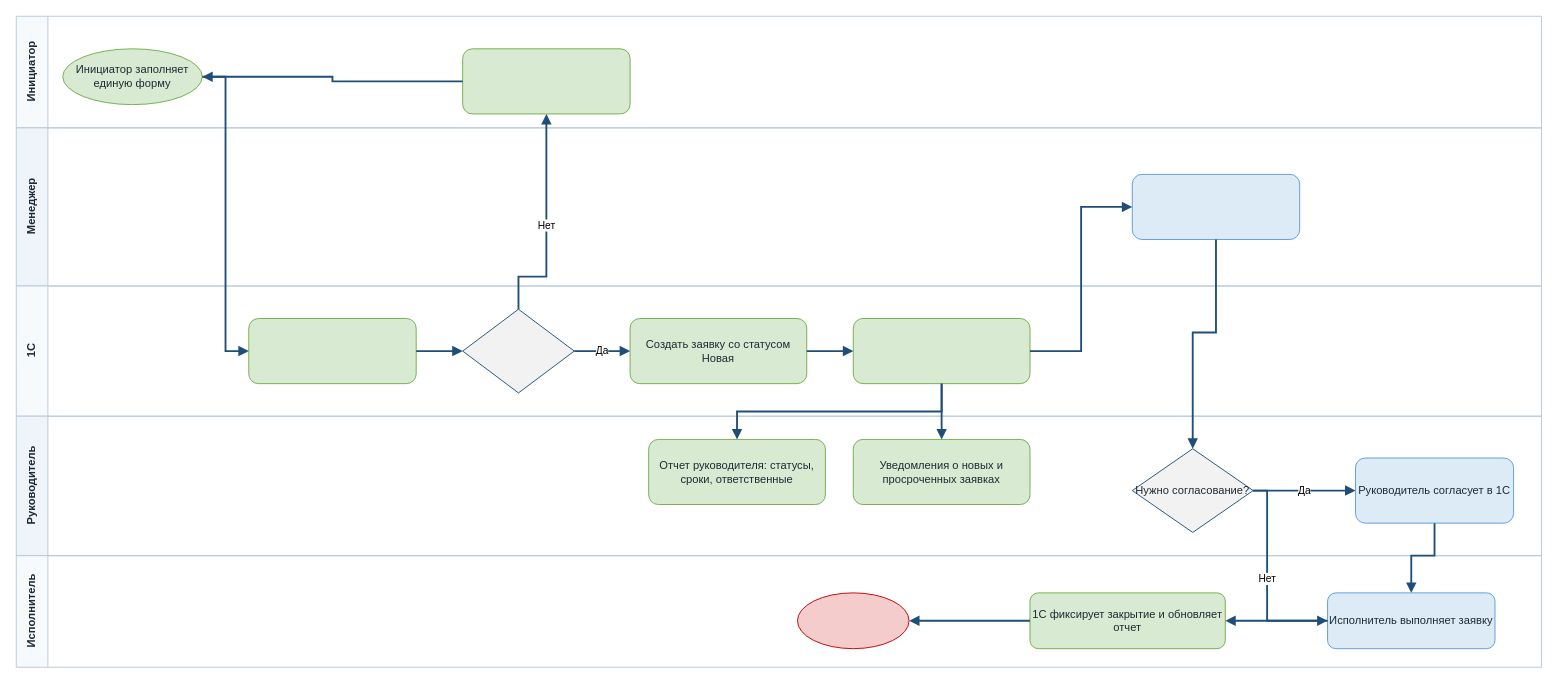
The diagram is 1558 pixels wide and 684 high, and some of its shapes have lost their labels. The centre of each missing label's shape, as x and y in pixels:
1С проверяет обязательные поля: [332,351]
Вернуть на дозаполнение: [546,81]
Данные корректны?: [518,350]
Заявка закрыта: [853,620]
Менеджер принимает в работу: [1215,206]
Назначить ответственного и контрольный срок: [941,351]
